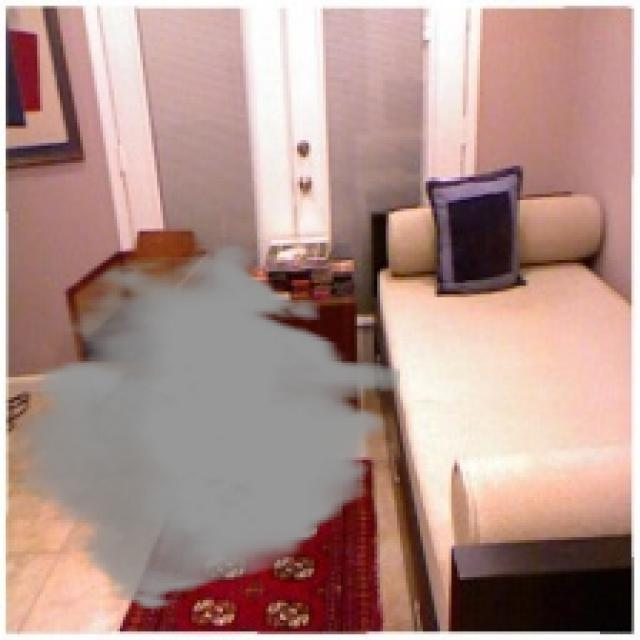Smoke: (11, 243, 400, 612)
